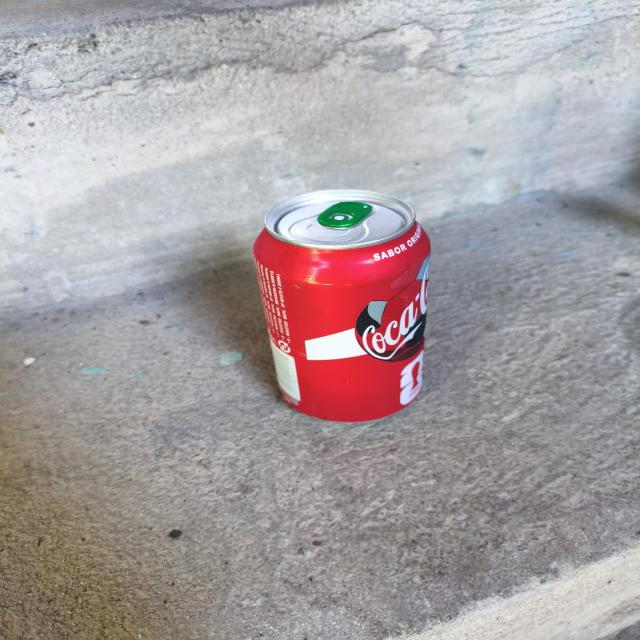Coca Cola: (252, 190, 432, 421)
